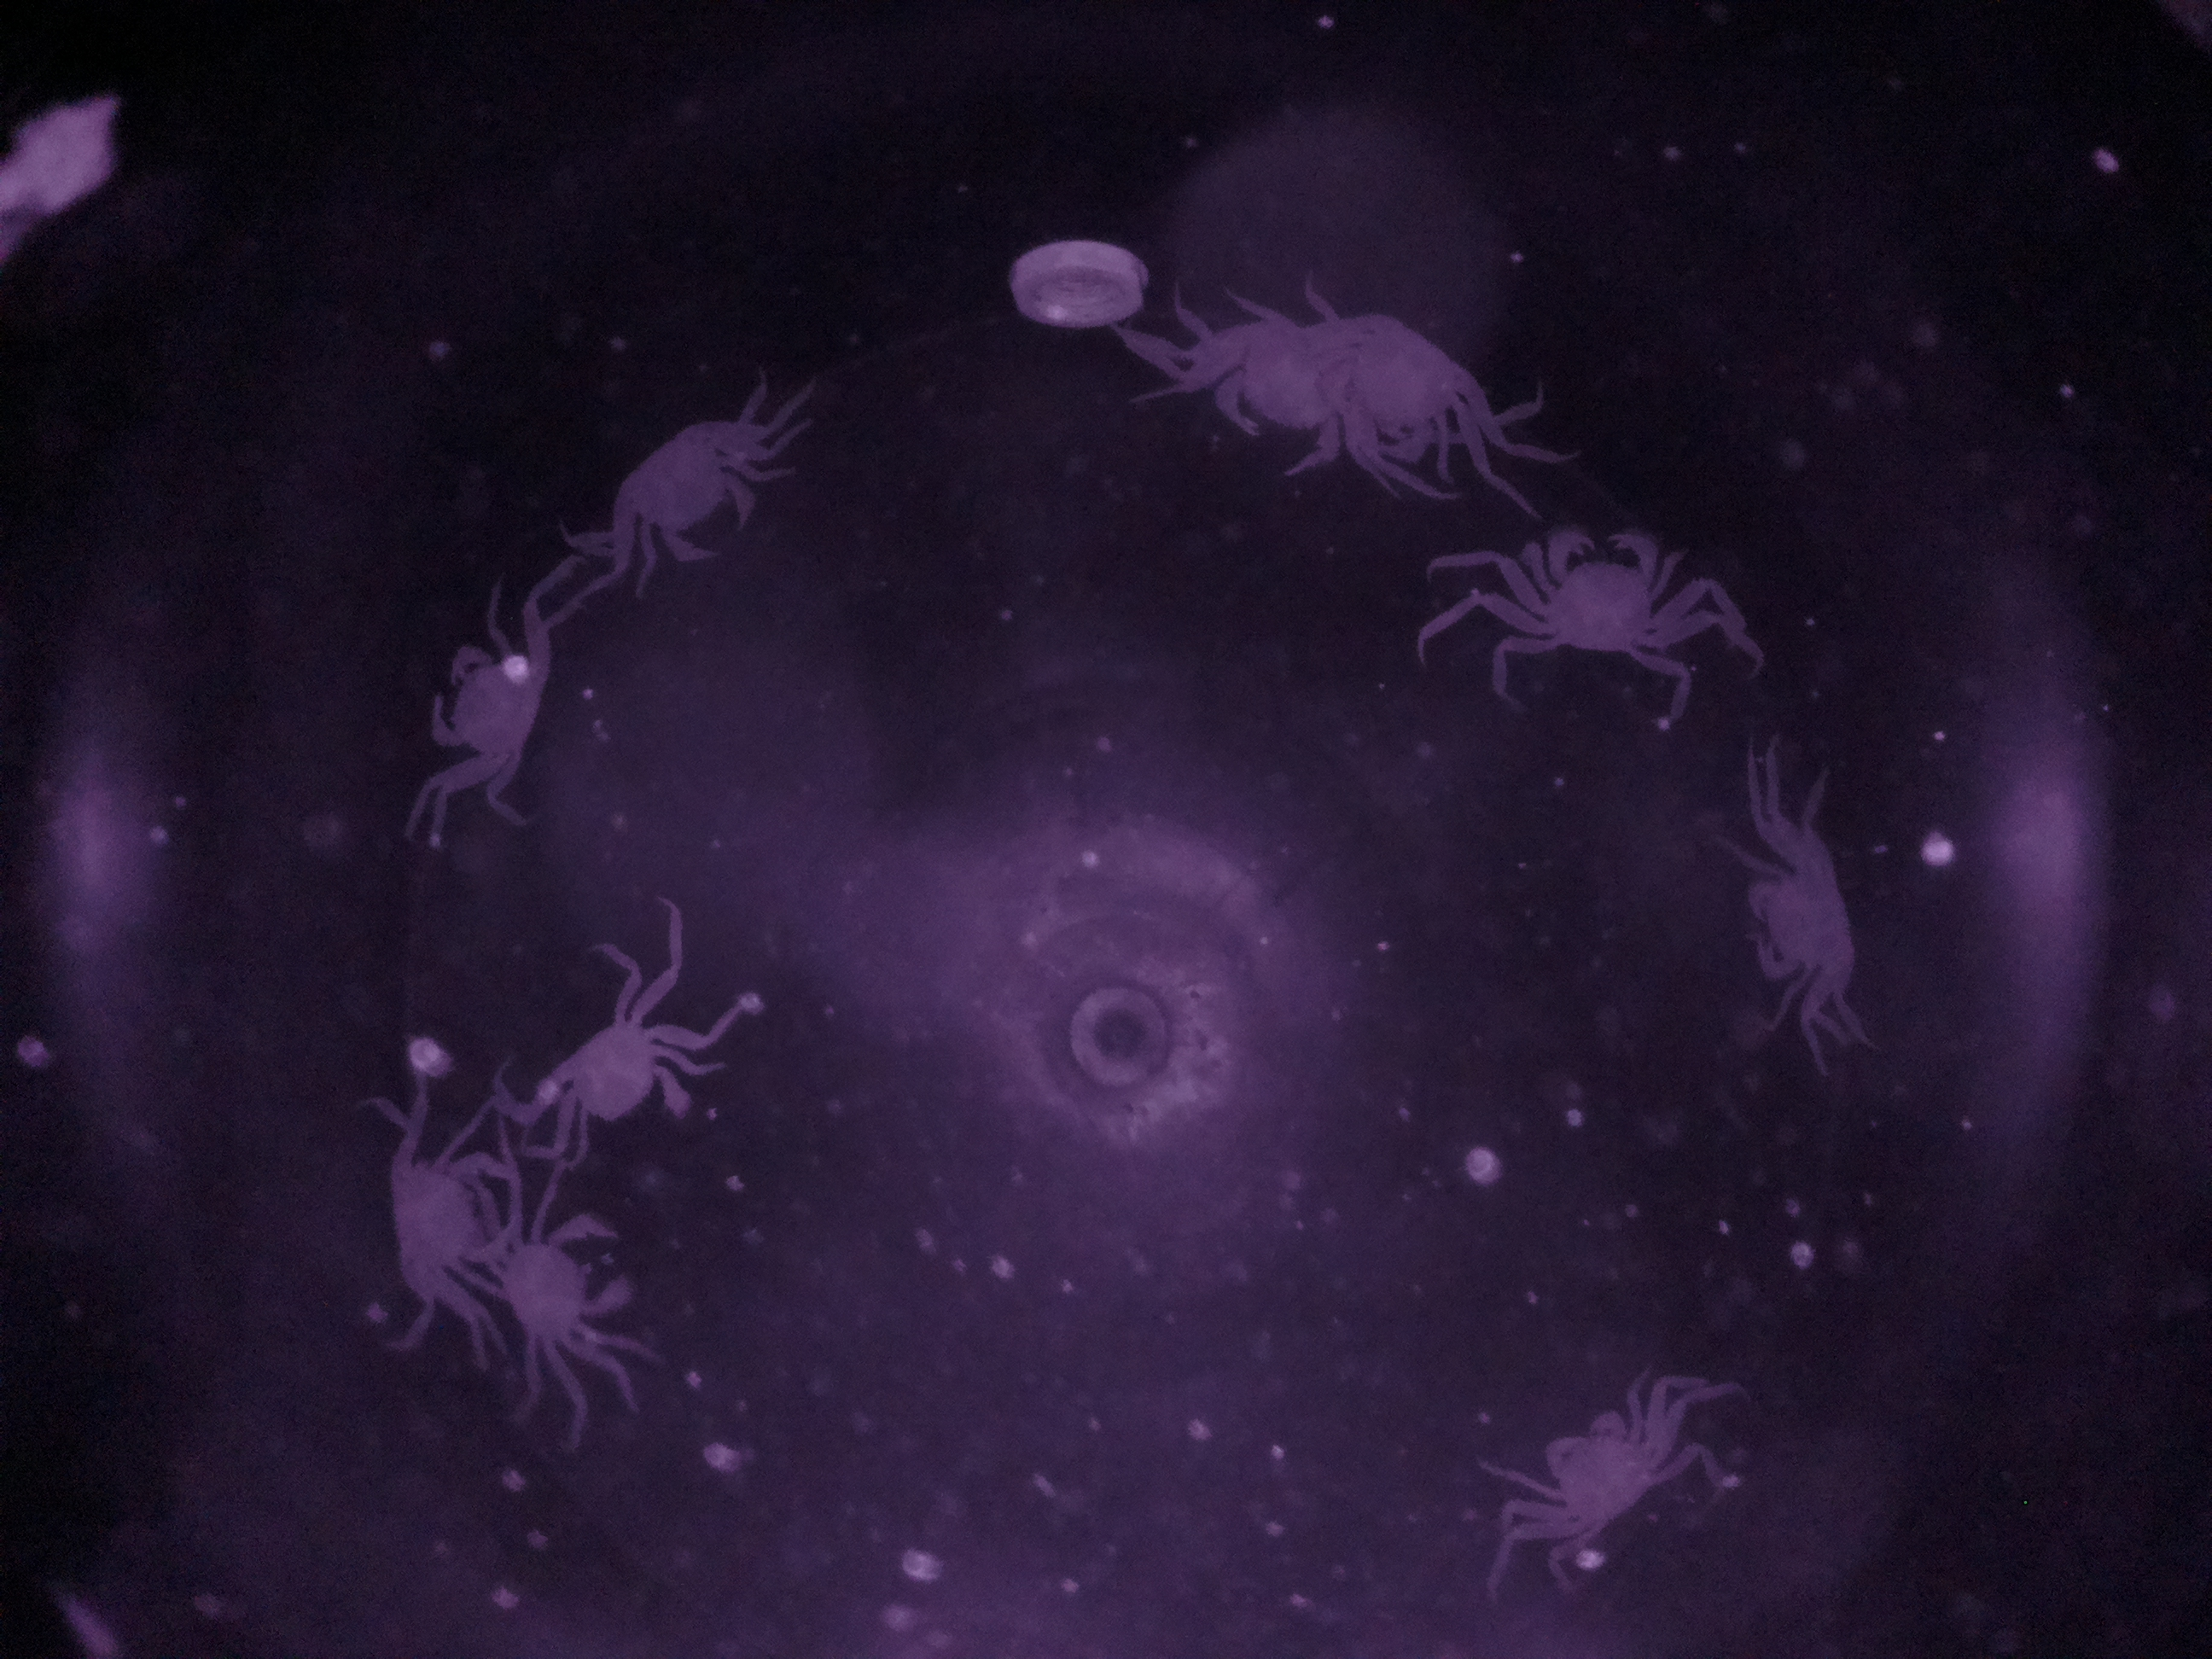Crab: (388, 605, 587, 821), (570, 397, 784, 594), (519, 974, 716, 1183), (1493, 498, 1688, 683), (472, 1185, 655, 1366), (1519, 1382, 1695, 1561), (1712, 821, 1876, 1012)
